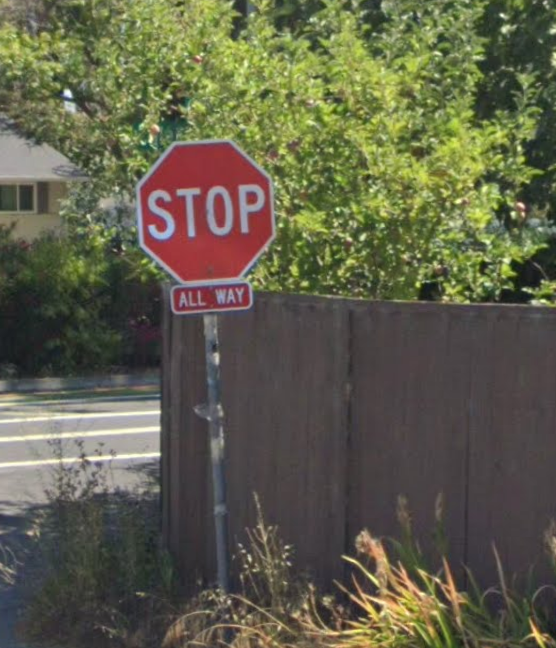stop_sign: (138, 138, 274, 280)
